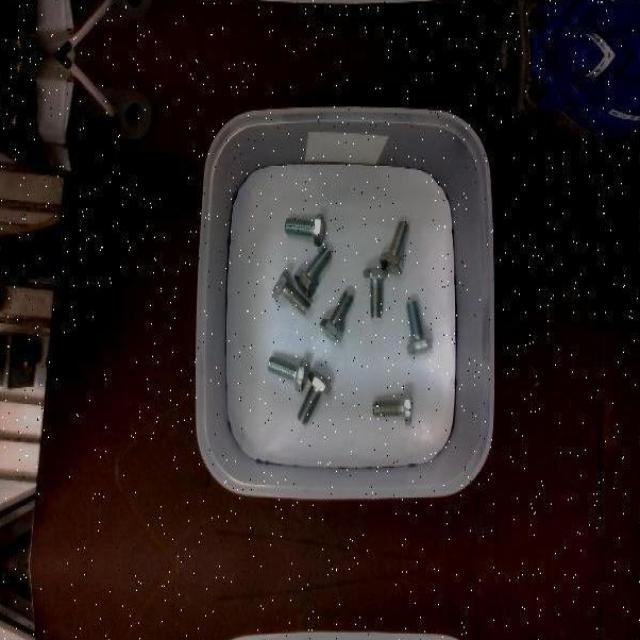screw: (296, 370, 332, 424), (293, 246, 332, 295), (319, 290, 353, 343), (271, 269, 309, 314), (378, 220, 408, 274), (267, 354, 309, 391), (406, 300, 433, 355), (372, 389, 413, 425), (284, 214, 324, 246), (364, 267, 388, 318)
